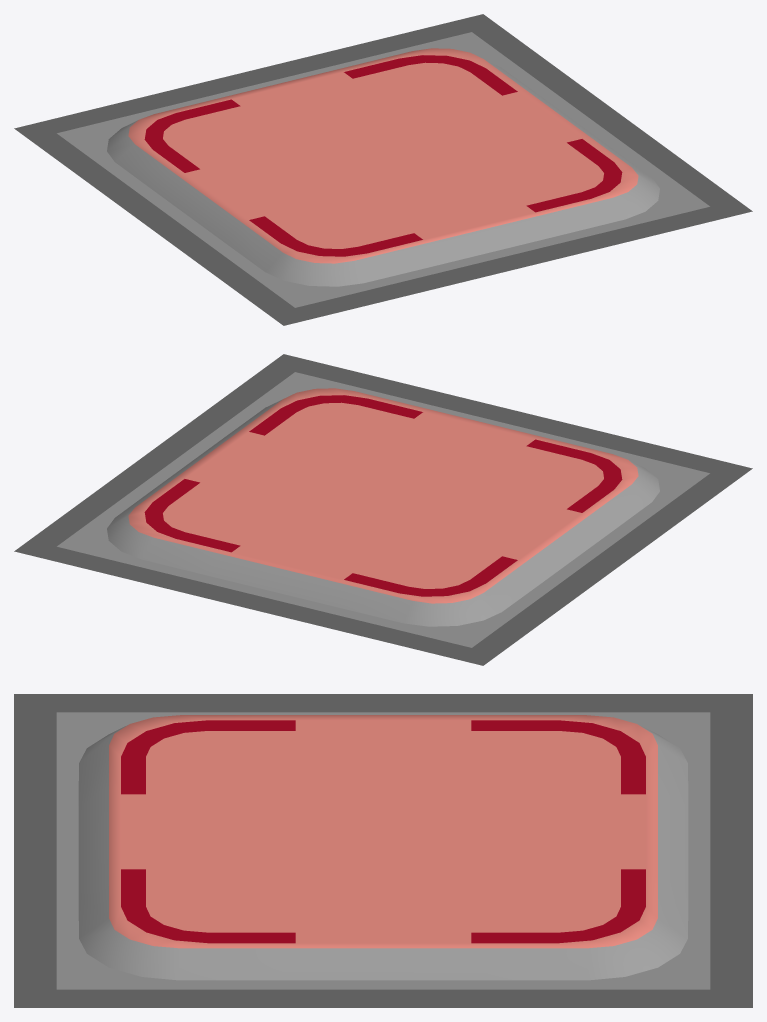
Rendered from tile_red.fbx.
The picture shows the model from 3 angles, top to bottom: view 1: azimuth 30°, elevation 25°; view 2: azimuth 150°, elevation 25°; view 3: azimuth 270°, elevation 25°; orthographic projection. The views are drawn at different scales.
Visible parts, largest first — view 1: tile_REN; view 2: tile_REN; view 3: tile_REN.
Part boxes in pixels (box(x1,y1,x2,y2)): tile_REN: box(14, 14, 752, 325); tile_REN: box(14, 354, 752, 665); tile_REN: box(14, 694, 752, 1007).
Bounding box in the file's own units: 4 × 0.1145 × 3.98.
